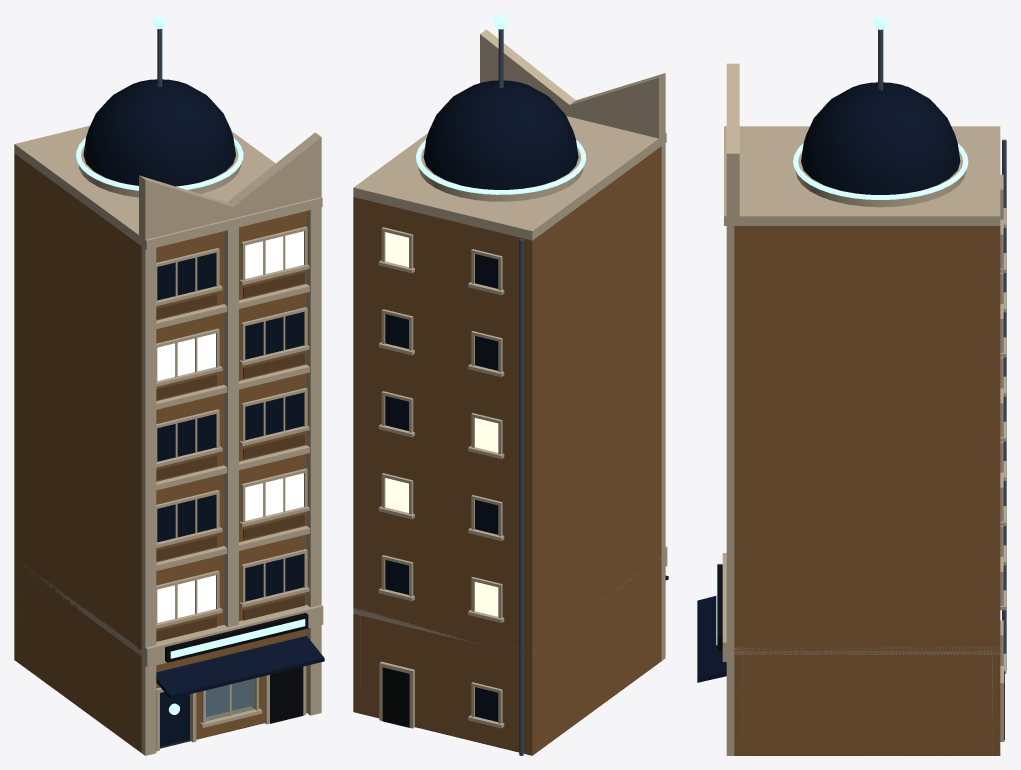
Rendered from row_twin.glb.
3 views of the same model, side by side, from view 1: azimuth 30°, elevation 25°; view 2: azimuth 150°, elevation 25°; view 3: azimuth 270°, elevation 25° (orthographic). The views are drawn at different scales.
Visible parts, largest first — view 1: row_twin, door_shop_leaf; view 2: row_twin; view 3: row_twin.
Boxes of the visible parts, bbox=[...] form: row_twin: bbox=[14, 14, 324, 755]; door_shop_leaf: bbox=[160, 692, 189, 746]; row_twin: bbox=[353, 14, 668, 755]; row_twin: bbox=[697, 14, 1006, 755].
Size of the model in its own units: 8 by 28.9 by 11.64.
